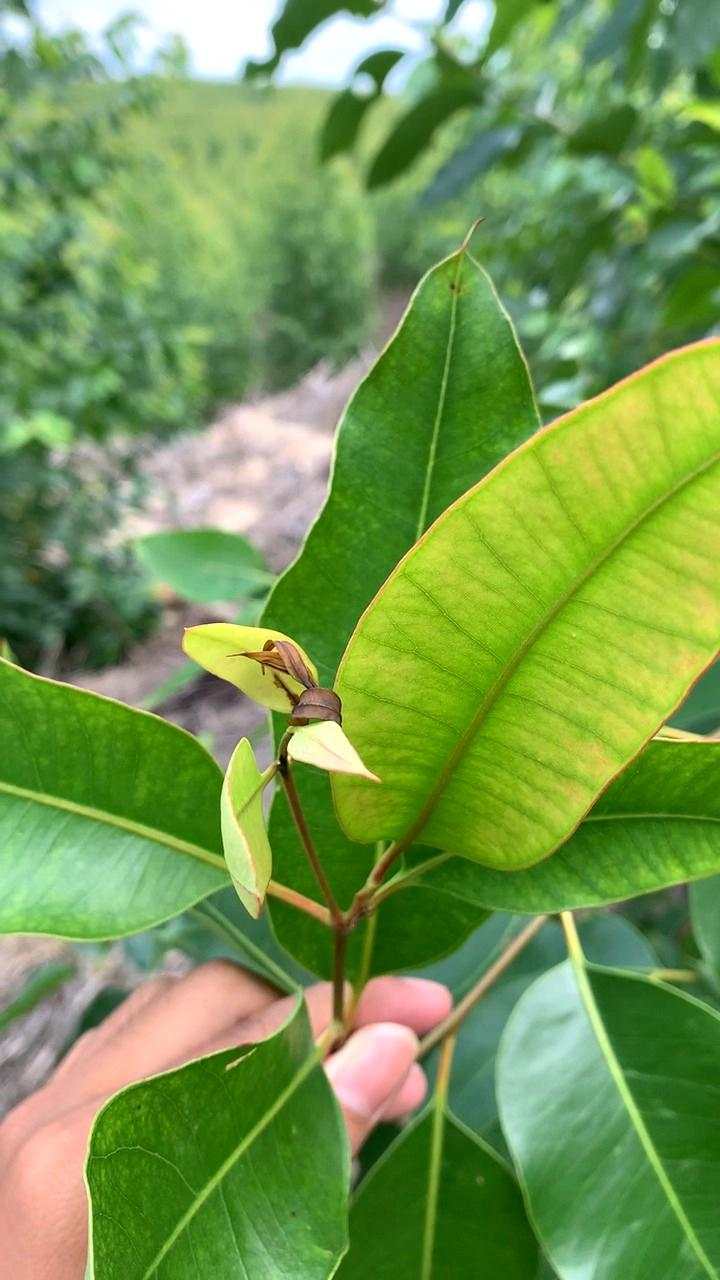Helopeltis-Withered Sprout: (215, 610, 383, 793)
